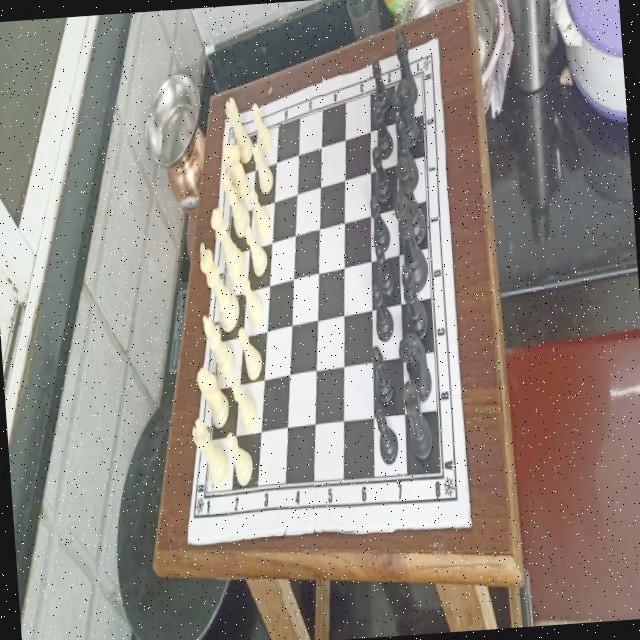corners: (462, 515, 474, 533), (432, 31, 442, 49), (220, 111, 229, 128), (184, 532, 193, 546)
